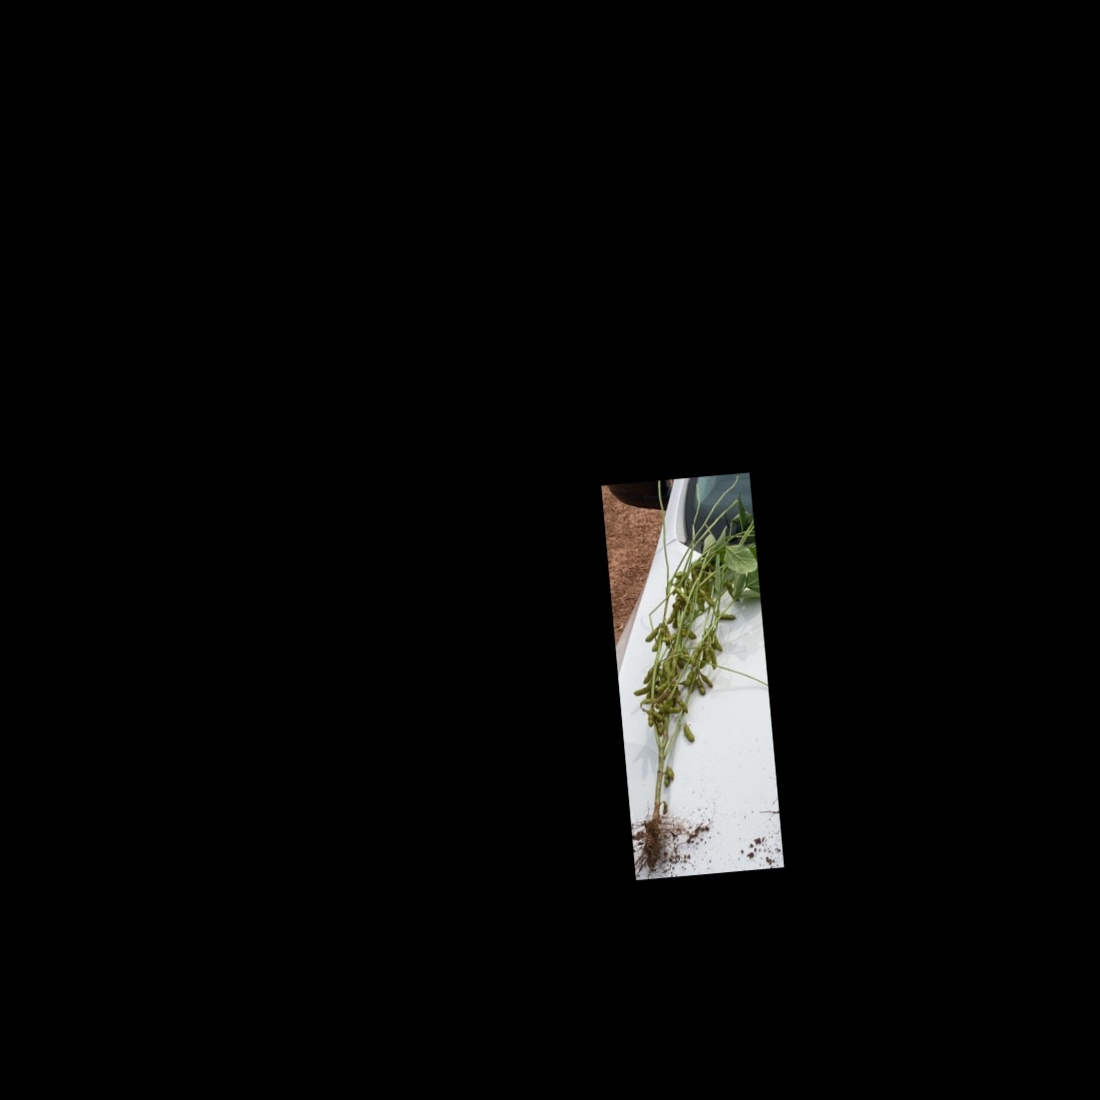pod: (677, 719, 697, 747), (641, 624, 663, 645), (696, 586, 716, 609), (696, 669, 716, 691), (693, 674, 707, 698), (675, 694, 691, 715), (680, 667, 696, 685), (707, 645, 718, 671), (717, 611, 741, 622)
soy: (604, 474, 780, 866)
